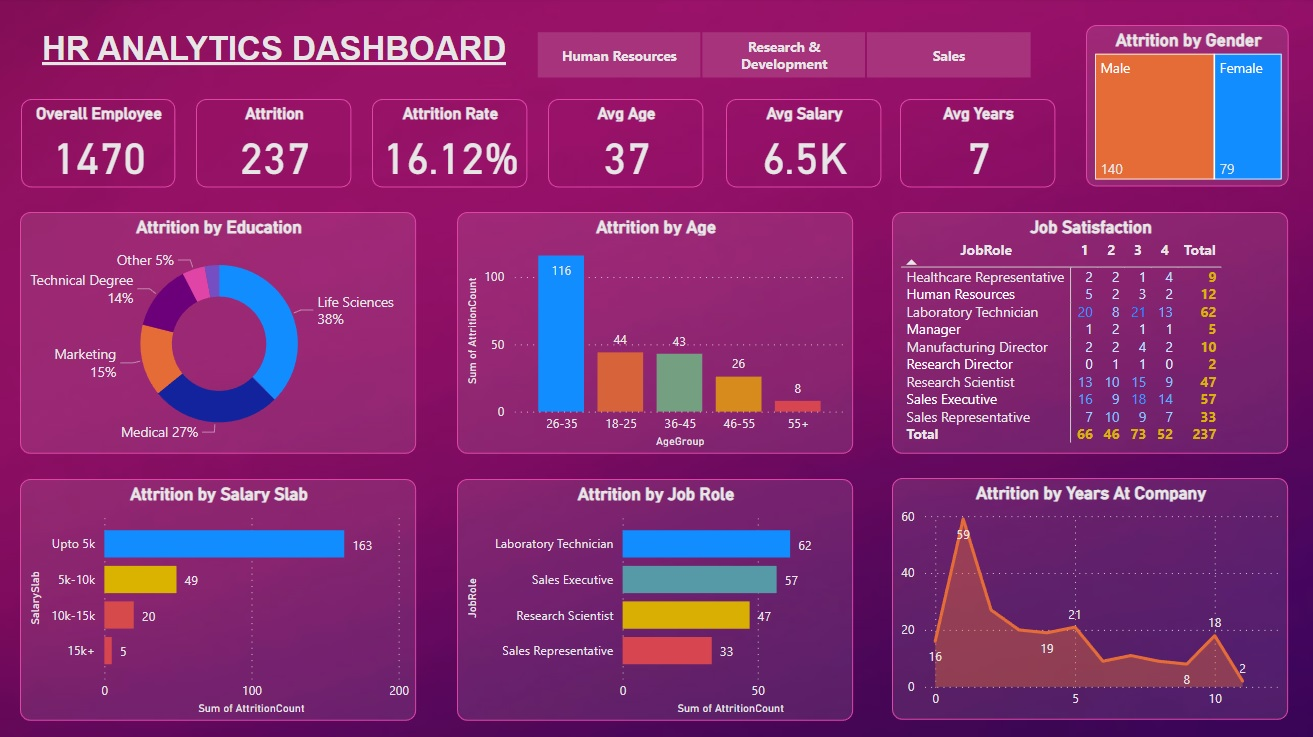

Layout of this report page (visuals, bound fields, positions):
{"tool":"powerbi","page":{"name":"Page 1","canvas":[1280,720],"ordinal":0},"visuals":[{"type":"card","title":"Overall Employee","fields":{"Values":["CountNonNull(HR_Analytics.EmpID)"]},"box":[22.4,98.2,150,85.5],"z":0},{"type":"card","title":"Attrition","fields":{"Values":["Sum(HR_Analytics.AttritionCount)"]},"box":[192.4,98.2,150.6,85.5],"z":1000},{"type":"card","title":"Attrition Rate","fields":{"Values":["HR_Analytics.AttritionRate"]},"box":[363.5,98.2,150.6,85.5],"z":2000},{"type":"card","title":"Avg Age","fields":{"Values":["Avg(HR_Analytics.Age)"]},"box":[534.5,98.2,150.6,85.5],"z":3000},{"type":"card","title":"Avg Salary","fields":{"Values":["Avg(HR_Analytics.MonthlyIncome)"]},"box":[707.5,98.2,150.6,85.5],"z":4000},{"type":"card","title":"Avg Years","fields":{"Values":["Avg(HR_Analytics.YearsAtCompany)"]},"box":[876.7,98.2,150.6,85.5],"z":5000},{"type":"donutChart","title":"Attrition by Education","fields":{"Category":["HR_Analytics.EducationField"],"Y":["Sum(HR_Analytics.AttritionCount)"]},"box":[21.4,208,385,235.2],"z":6000},{"type":"columnChart","title":"Attrition by Age","fields":{"Category":["HR_Analytics.AgeGroup"],"Y":["Sum(HR_Analytics.AttritionCount)"]},"box":[446.1,208,385,235.2],"z":7000},{"type":"pivotTable","title":"Job Satisfaction","fields":{"Rows":["HR_Analytics.JobRole"],"Columns":["HR_Analytics.JobSatisfaction"],"Values":["Sum(HR_Analytics.AttritionCount)"]},"box":[869,208,385,235],"z":8000},{"type":"barChart","title":"Attrition by Salary Slab","fields":{"Category":["HR_Analytics.SalarySlab"],"Y":["Sum(HR_Analytics.AttritionCount)"]},"box":[21.4,467.5,385,235],"z":9000},{"type":"barChart","title":"Attrition by Job Role","fields":{"Y":["Sum(HR_Analytics.AttritionCount)"],"Category":["HR_Analytics.JobRole"]},"box":[446.1,467.5,385,235.2],"z":10000},{"type":"areaChart","title":"Attrition by Years At Company","fields":{"Category":["HR_Analytics.YearsAtCompany"],"Y":["Sum(HR_Analytics.AttritionCount)"]},"box":[869,467,385,235],"z":11000},{"type":"treemap","title":"Attrition by Gender","fields":{"Group":["HR_Analytics.Gender"],"Values":["Sum(HR_Analytics.AttritionCount)"]},"box":[1057.4,26.2,197.3,157.4],"z":12000},{"type":"slicer","fields":{"Values":["HR_Analytics.Department"]},"box":[498.6,26.2,528.7,54.4],"z":13000},{"type":"textbox","box":[22.4,26.2,491.8,55.4],"z":14000}]}

Visuals, with their boxes in screenshot pixels (x1, y1, x2, y2), scaled from the page's 1280x720 canvas onto the 1313x737 screenshot:
"Overall Employee" card: select_region(23, 101, 177, 188)
"Attrition" card: select_region(197, 101, 352, 188)
"Attrition Rate" card: select_region(373, 101, 527, 188)
"Avg Age" card: select_region(548, 101, 703, 188)
"Avg Salary" card: select_region(726, 101, 880, 188)
"Avg Years" card: select_region(899, 101, 1054, 188)
"Attrition by Education" donutChart: select_region(22, 213, 417, 454)
"Attrition by Age" columnChart: select_region(458, 213, 853, 454)
"Job Satisfaction" pivotTable: select_region(891, 213, 1286, 453)
"Attrition by Salary Slab" barChart: select_region(22, 479, 417, 719)
"Attrition by Job Role" barChart: select_region(458, 479, 853, 719)
"Attrition by Years At Company" areaChart: select_region(891, 478, 1286, 719)
"Attrition by Gender" treemap: select_region(1085, 27, 1287, 188)
slicer - HR_Analytics.Department: select_region(511, 27, 1054, 83)
textbox: select_region(23, 27, 527, 84)
